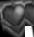heart: (0, 0, 25, 26), (0, 26, 25, 37), (25, 0, 34, 26)
